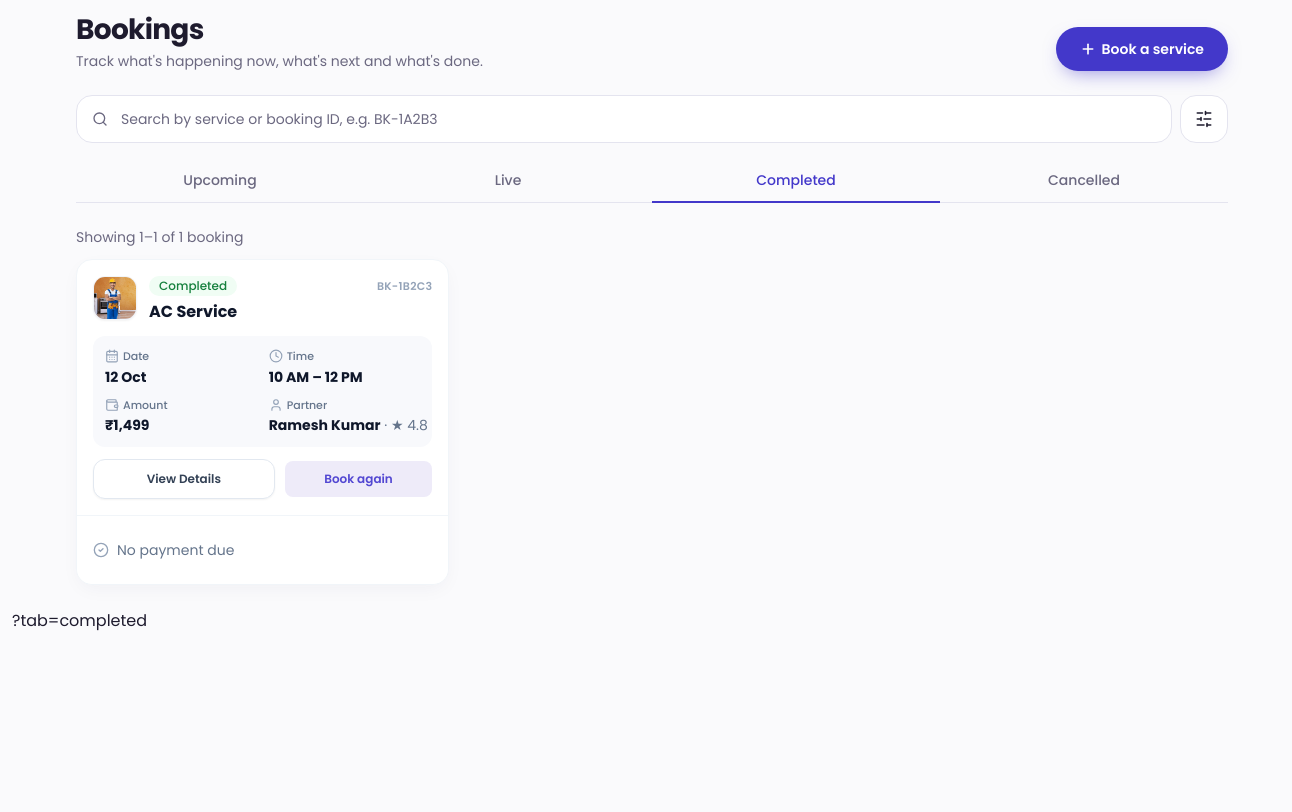
Test case: My Bookings page › offers Track on live bookings but Book again on completed ones
Check: the link "Book again" is shown, box [285,461,432,497]
Click the tab "Live" at (508, 181), box [364,159,652,203]
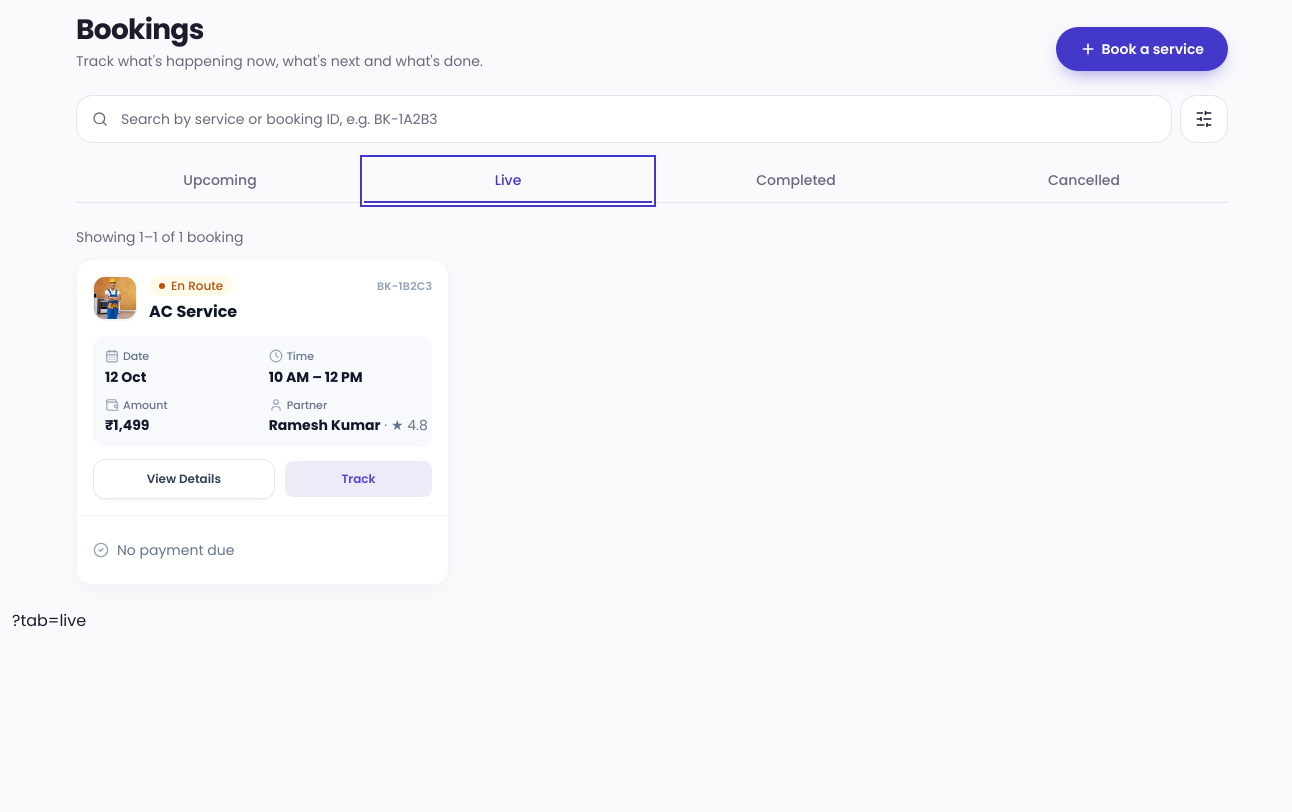
Check: the link "Track" is shown, box [285,461,432,497]
